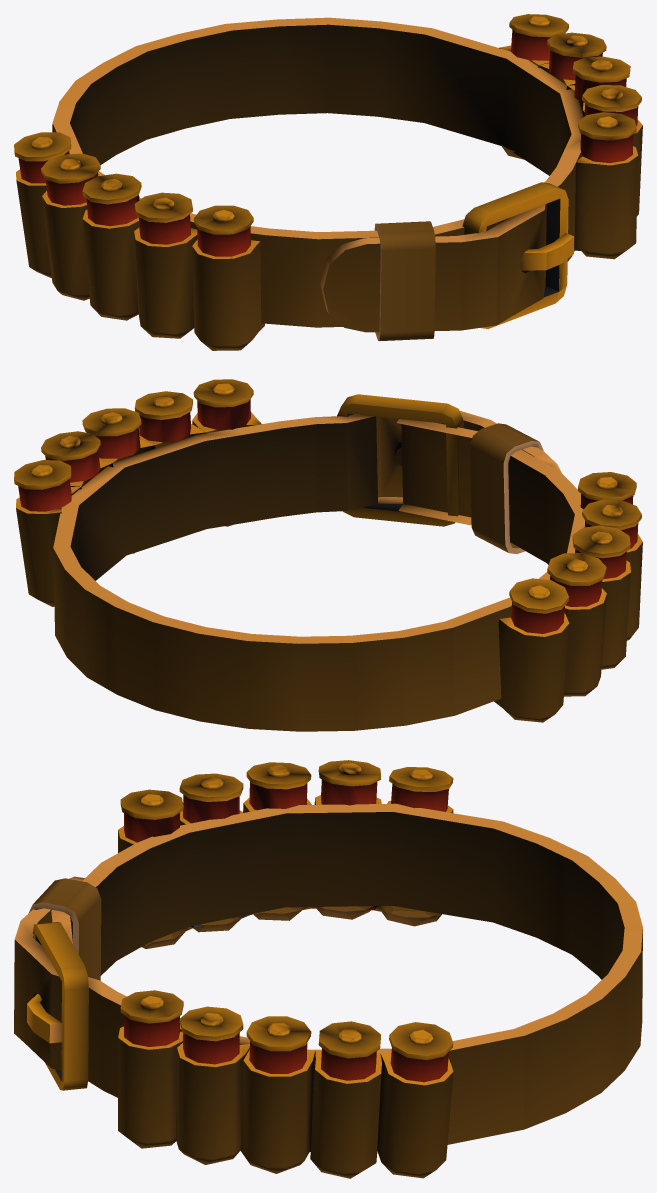
The model's file is BTLMN_Clothes_A.glb.
3 renders of one model, top to bottom at view 1: azimuth 30°, elevation 25°; view 2: azimuth 150°, elevation 25°; view 3: azimuth 270°, elevation 25°, orthographic. The views are drawn at different scales.
Parts seen in each view (by area): view 1: Cloth_Bandolier_MA02; view 2: Cloth_Bandolier_MA02; view 3: Cloth_Bandolier_MA02.
Boxes of the visible parts, <box> form: Cloth_Bandolier_MA02: <box>14,14,642,350</box>; Cloth_Bandolier_MA02: <box>14,379,642,731</box>; Cloth_Bandolier_MA02: <box>14,760,642,1178</box>.
Bounding box in the file's own units: 0.9161 × 0.2148 × 0.8282.
